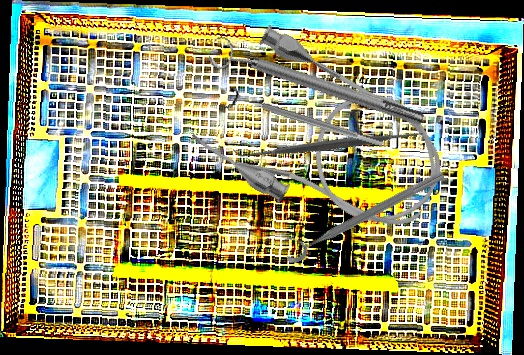Cannula: (184, 18, 465, 265)
Fixation Ring: (206, 31, 428, 139), (277, 158, 448, 266), (224, 85, 387, 156)
Spatula Surgical: (232, 45, 430, 244)
